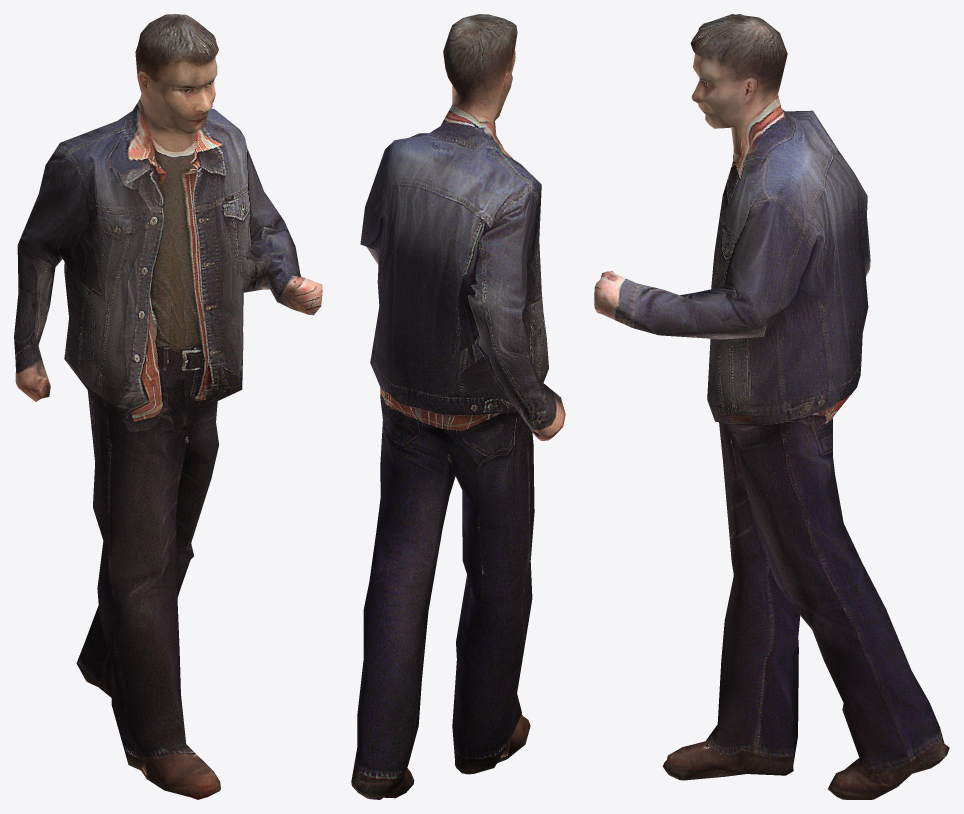
Rendered from Person_8.obj.
The picture shows the model from 3 angles, left to right: view 1: azimuth 30°, elevation 25°; view 2: azimuth 150°, elevation 25°; view 3: azimuth 270°, elevation 25°; orthographic projection. The views are drawn at different scales.
Parts seen in each view (by area): view 1: Person_8; view 2: Person_8; view 3: Person_8.
Boxes of the visible parts, x1,y1,x2,y2 form: Person_8: (14,14,322,799); Person_8: (351,14,565,799); Person_8: (594,14,949,799).
Bounding box in the file's own units: 0.6083 × 1.88 × 0.7989.
Materials: 1 (1 with a texture image).
